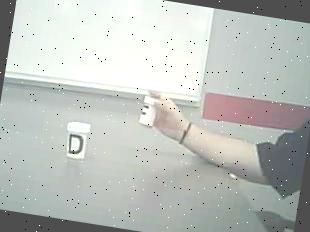Bottle D: (59, 118, 96, 166)
Bottle F: (138, 92, 162, 132)
